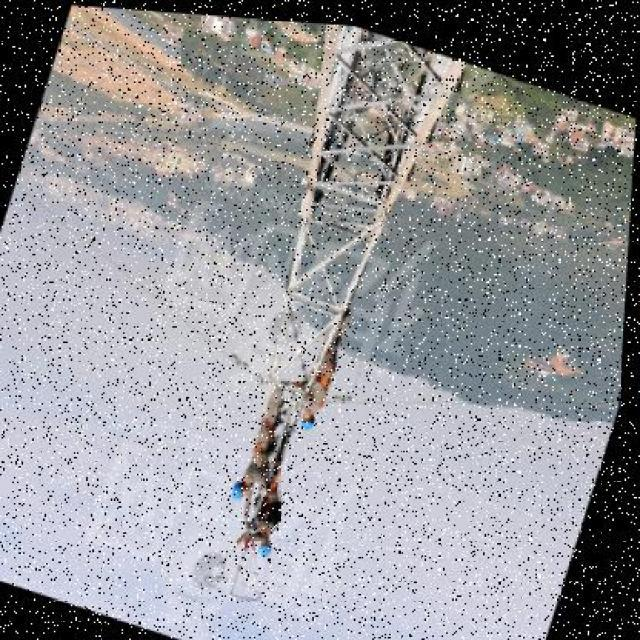helmet: (229, 473, 252, 502), (300, 402, 324, 428), (260, 532, 281, 554)
